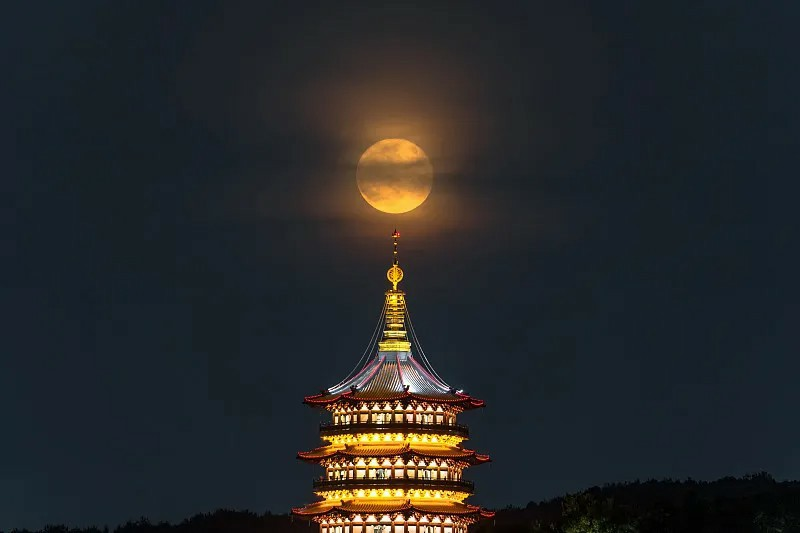Leifeng: (287, 225, 499, 533)
